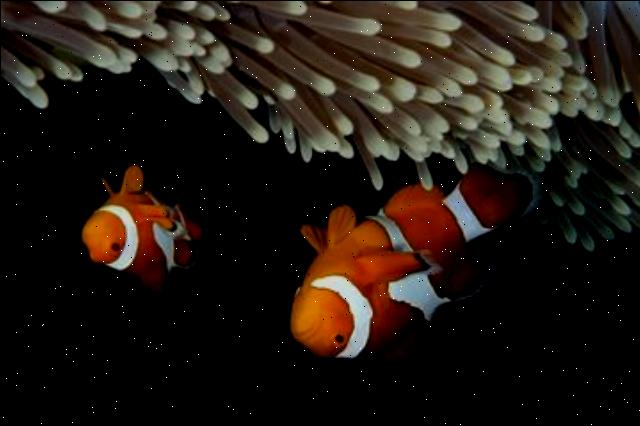Mulut: (276, 298, 326, 355), (70, 214, 114, 255)
Sirip Anal: (373, 166, 451, 224)
Sirip Dada: (352, 234, 456, 292), (130, 193, 184, 236)
Sirip Ekor: (454, 146, 556, 232)
Sirip Perut: (289, 195, 367, 260)
Sirip Punggung: (367, 237, 509, 382), (130, 235, 194, 318), (80, 150, 152, 200)
